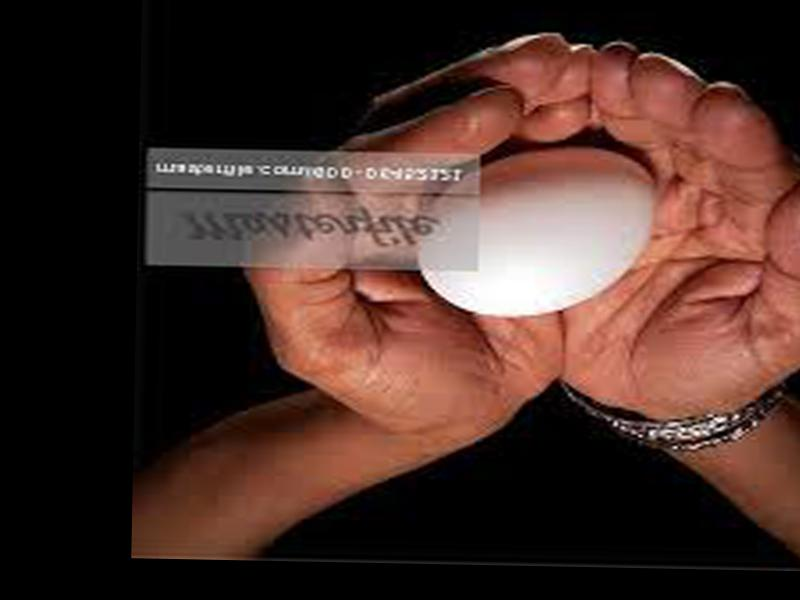Eggs: (424, 142, 658, 317)
